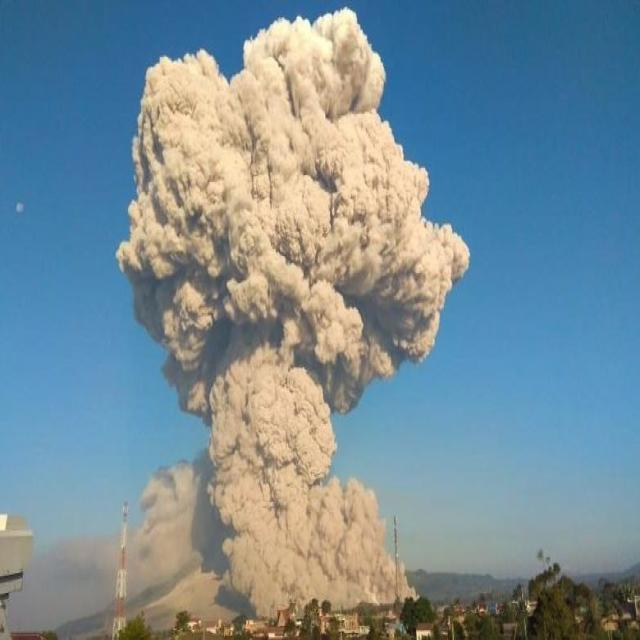Smoke: (115, 8, 472, 620)
